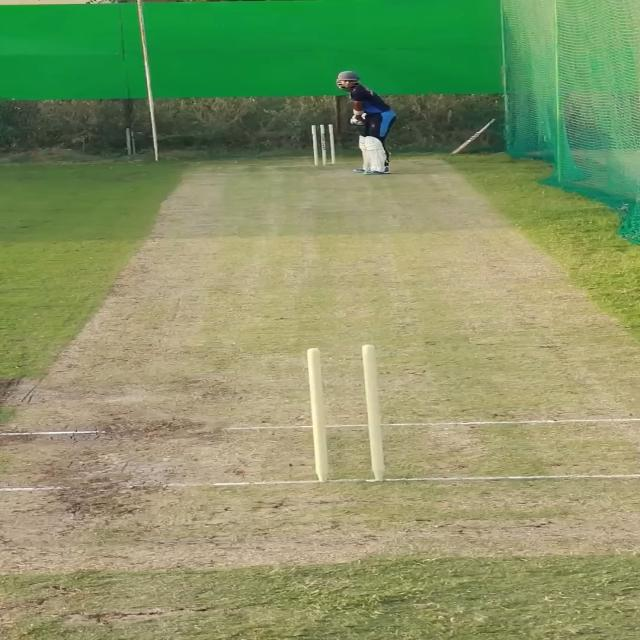stump: (304, 344, 391, 484), (310, 124, 338, 165)
